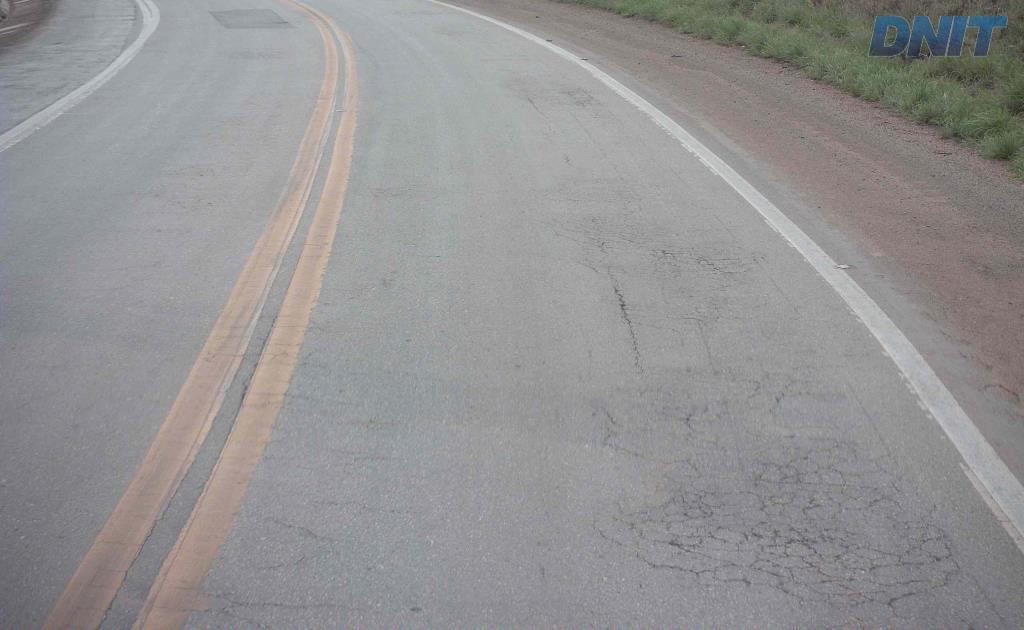crack: (627, 484, 725, 554), (755, 489, 822, 524), (750, 461, 812, 491), (740, 511, 781, 547)
